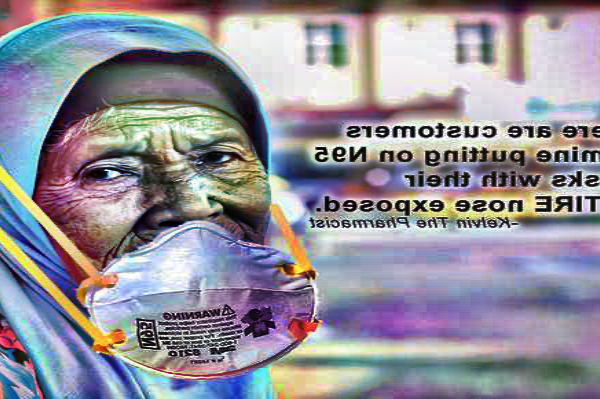mask_weared_incorrect: (44, 128, 273, 307)
